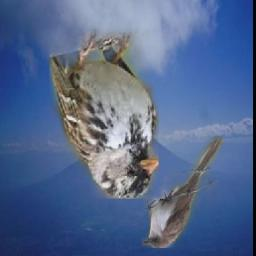Cuckoo: (142, 136, 223, 248)
Sparrow: (50, 30, 159, 200)
